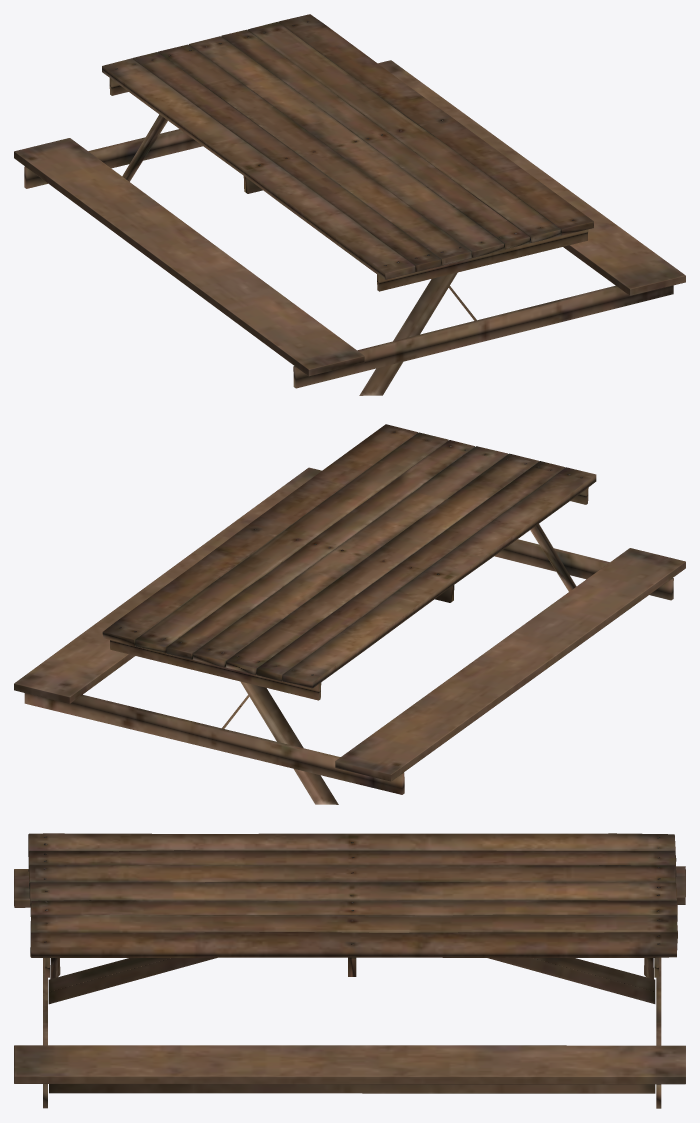
The model's file is picnictable.glb.
The picture shows the model from 3 angles, top to bottom: view 1: azimuth 30°, elevation 25°; view 2: azimuth 150°, elevation 25°; view 3: azimuth 270°, elevation 25°; orthographic projection. The views are drawn at different scales.
Visible parts, largest first — view 1: wooden_picnic_table; view 2: wooden_picnic_table; view 3: wooden_picnic_table.
Boxes of the visible parts, x1,y1,x2,y2 form: wooden_picnic_table: (14, 14, 685, 395); wooden_picnic_table: (14, 424, 685, 804); wooden_picnic_table: (14, 833, 685, 1108).
Size of the model in its own units: 2.24 by 0.7438 by 3.02.
Materials: 2 (2 with a texture image).
